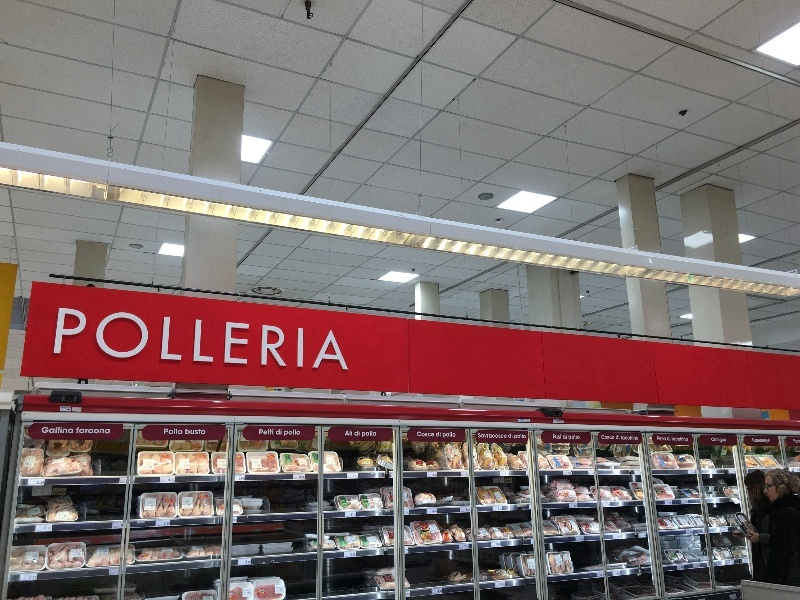text: (65, 306, 80, 372), (81, 306, 96, 372), (97, 306, 112, 372), (113, 306, 128, 372), (129, 306, 144, 372), (145, 306, 160, 372), (161, 306, 176, 372), (177, 306, 192, 372), (193, 306, 208, 372), (209, 306, 224, 372), (225, 306, 240, 372), (241, 306, 256, 372), (257, 306, 272, 372), (273, 306, 288, 372), (289, 306, 304, 372), (305, 306, 320, 372), (321, 306, 336, 372), (337, 306, 351, 372), (57, 306, 64, 372), (49, 427, 64, 434), (81, 427, 96, 434), (97, 427, 110, 434), (481, 433, 496, 439), (193, 429, 206, 435), (259, 429, 272, 435), (515, 434, 528, 440), (657, 436, 672, 441), (673, 436, 688, 441), (753, 438, 768, 443), (164, 429, 176, 435), (289, 430, 301, 436), (418, 432, 432, 437), (355, 431, 368, 436), (65, 427, 74, 434), (276, 430, 288, 435), (436, 432, 448, 437), (497, 433, 507, 439), (369, 431, 377, 438), (625, 436, 639, 440), (563, 435, 576, 439), (711, 438, 720, 443), (593, 472, 608, 475), (433, 510, 448, 513), (465, 545, 480, 548), (497, 543, 512, 546), (37, 481, 48, 485), (42, 427, 48, 434), (185, 429, 192, 435), (362, 431, 368, 438), (449, 432, 456, 438), (466, 473, 480, 476), (498, 508, 512, 511), (690, 531, 704, 534), (568, 435, 576, 440), (616, 435, 624, 440), (118, 570, 128, 574), (406, 593, 416, 597), (643, 534, 656, 537), (177, 429, 183, 435), (404, 511, 416, 514), (500, 583, 512, 586), (133, 480, 144, 483), (165, 522, 176, 525), (405, 549, 416, 552), (581, 538, 592, 541), (245, 561, 256, 564), (443, 432, 448, 438), (602, 435, 608, 440), (609, 435, 615, 440), (433, 474, 448, 476), (76, 427, 80, 434), (553, 435, 560, 439), (793, 439, 800, 443), (354, 475, 368, 477), (466, 509, 480, 511), (347, 431, 352, 436), (667, 436, 672, 441), (721, 438, 726, 443), (168, 479, 176, 482), (568, 472, 576, 475), (692, 471, 704, 473), (122, 570, 128, 574), (616, 573, 624, 576), (600, 574, 608, 577), (233, 519, 240, 522), (681, 566, 688, 569), (438, 591, 448, 593), (285, 430, 288, 436), (122, 524, 128, 527), (577, 435, 580, 440), (299, 476, 304, 479), (505, 473, 512, 475), (617, 536, 624, 538), (697, 565, 704, 567), (478, 433, 480, 439), (509, 434, 512, 438), (621, 436, 624, 440), (45, 526, 48, 530), (49, 526, 52, 530), (33, 576, 37, 579), (733, 595, 736, 599), (433, 432, 435, 437), (769, 438, 771, 443), (241, 477, 244, 480), (353, 514, 356, 517), (353, 553, 356, 556), (668, 502, 672, 504), (732, 562, 736, 564), (273, 429, 274, 435), (797, 470, 800, 472), (685, 501, 688, 503), (30, 576, 32, 579), (671, 436, 672, 441), (561, 435, 562, 439), (574, 505, 576, 507), (609, 504, 611, 506), (239, 477, 240, 480), (639, 472, 640, 475), (351, 514, 352, 517), (351, 553, 352, 556), (577, 505, 578, 507), (607, 504, 608, 506)
